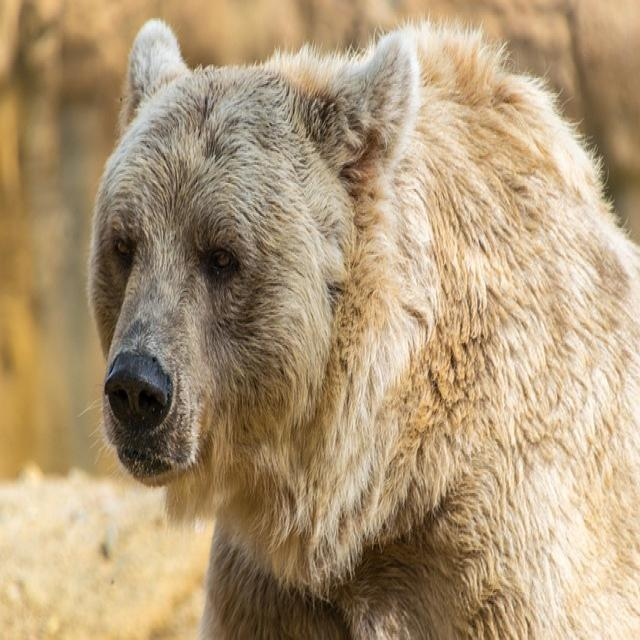Carnivorous: (86, 18, 640, 640)
